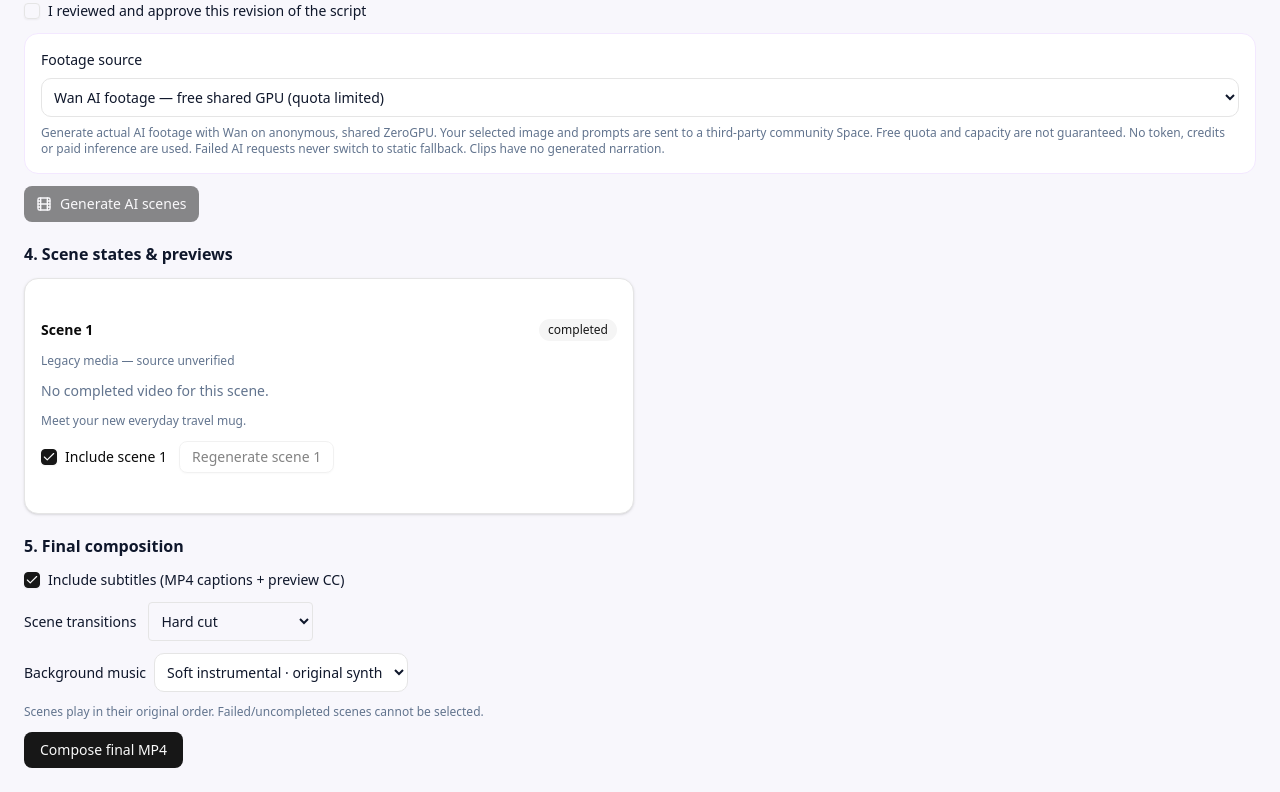
Test: composition confirmation stays next to its action and cancellation restores focus without starting a job
(page scrolled)
Click the button "Compose final MP4". click: coordinates (104, 750)
box: [24,732,183,768]
(page scrolled)
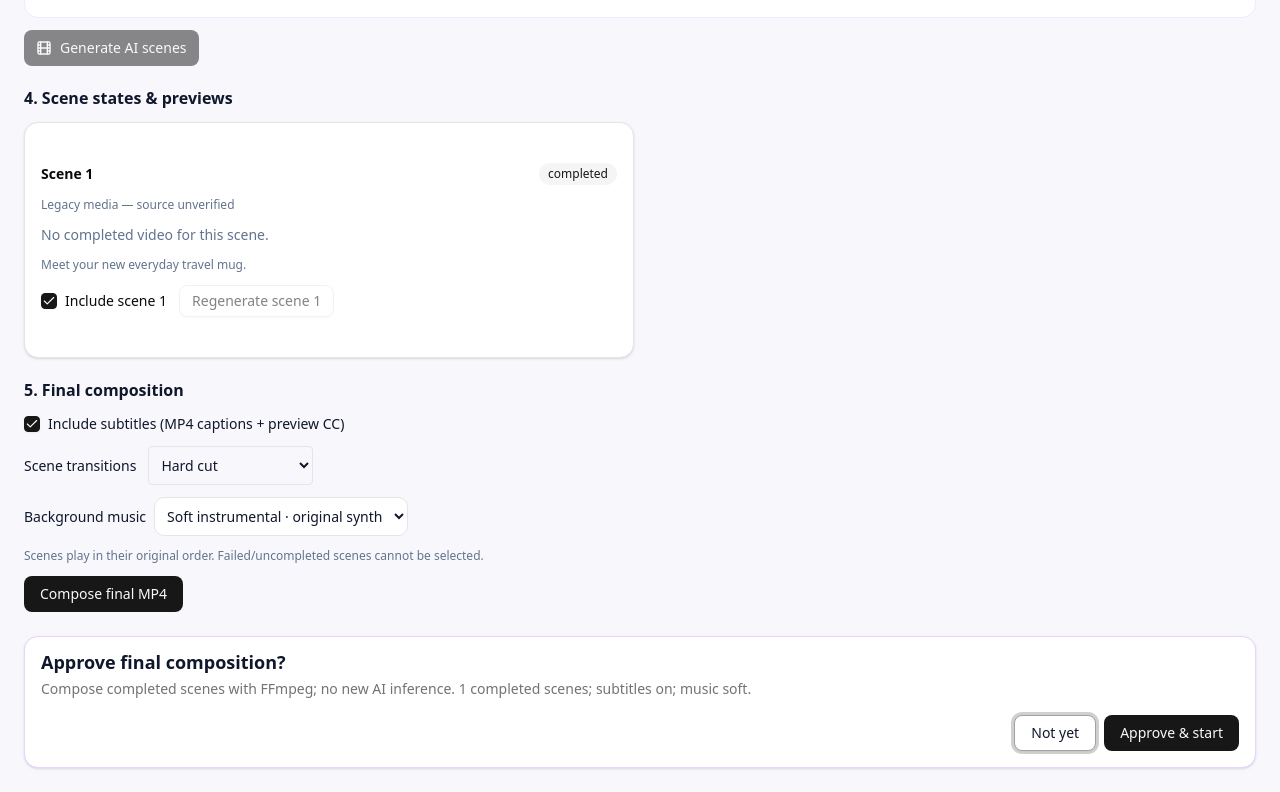
Check: the text "1 completed scenes; subtitles on; music soft" is shown, box [459,679,751,698]
Click the button "Not yet". click: coordinates (1055, 733)
box: [1014,715,1096,751]
(page scrolled)
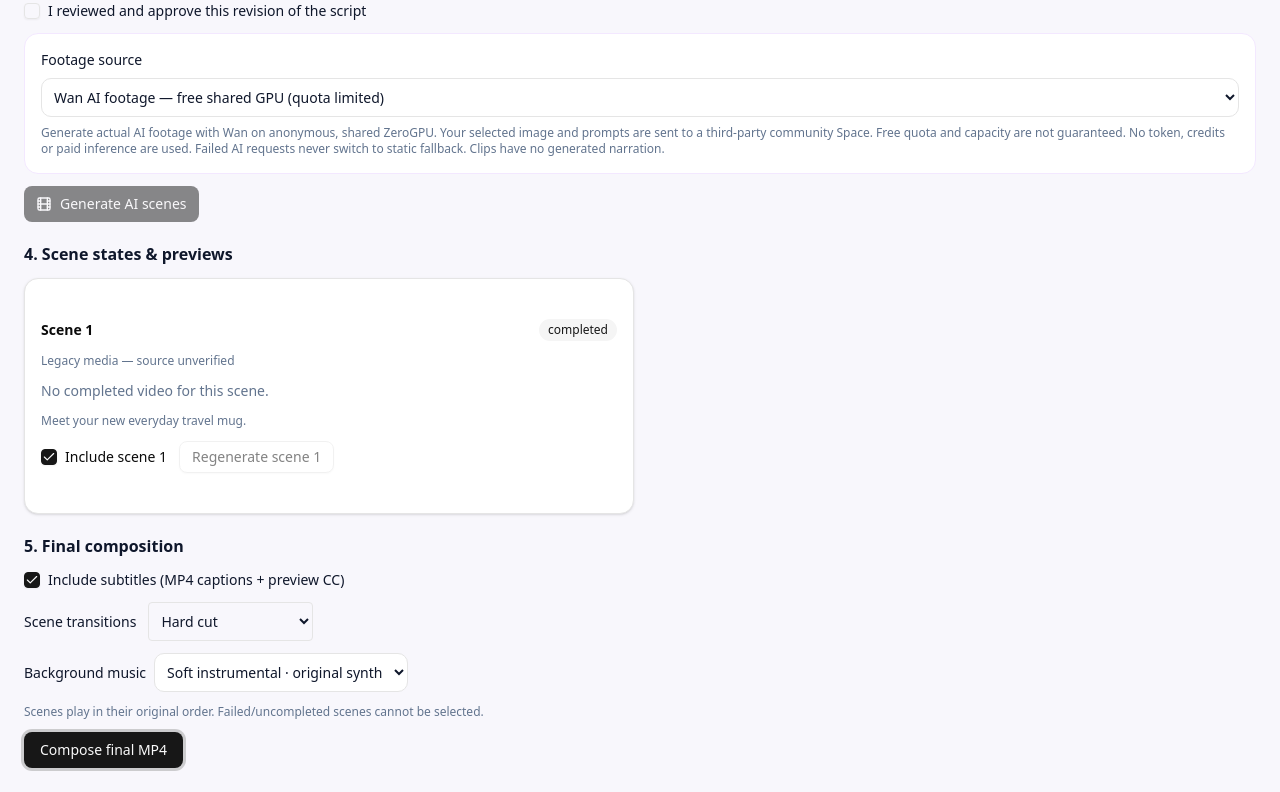
Check: the dialog is gone
Click the button "Compose final MP4". click: coordinates (104, 750)
box: [24,732,183,768]
(page scrolled)
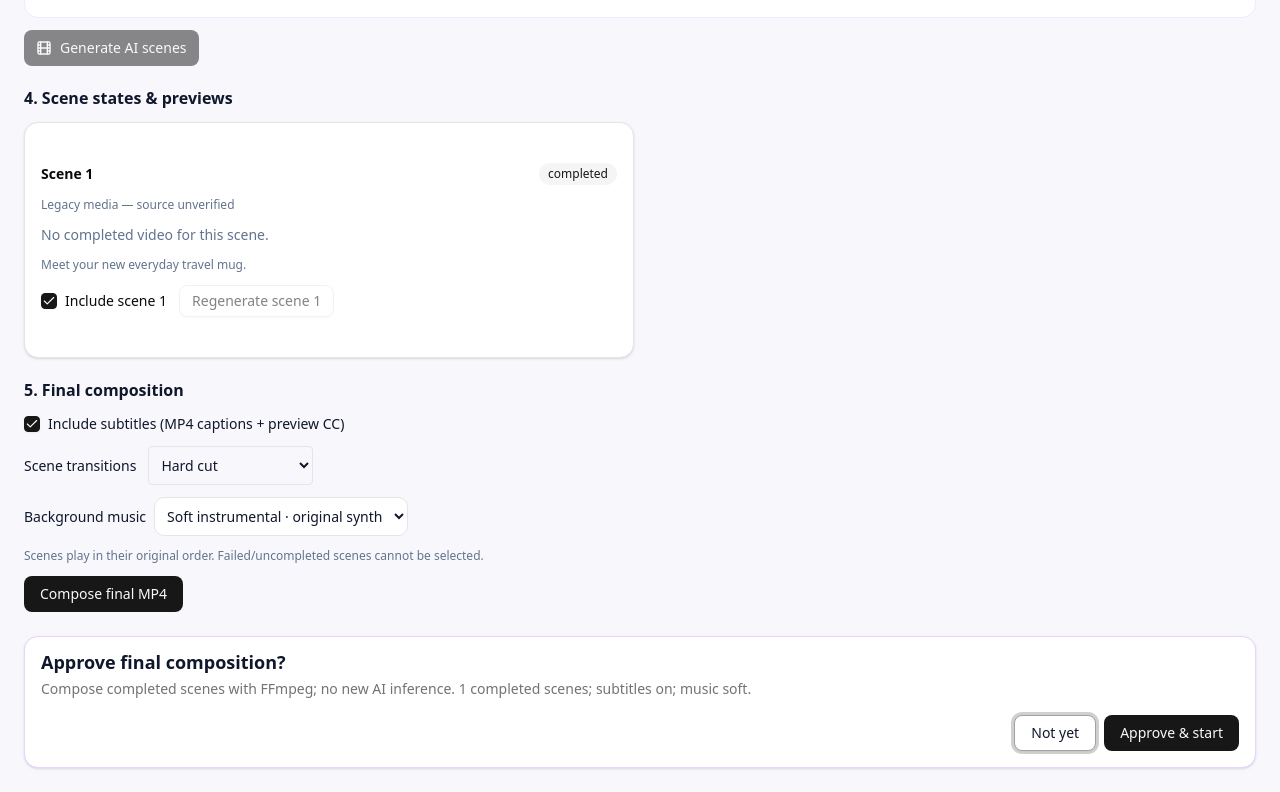
Press Escape in the dialog, box [24,636,1256,768]
(page scrolled)
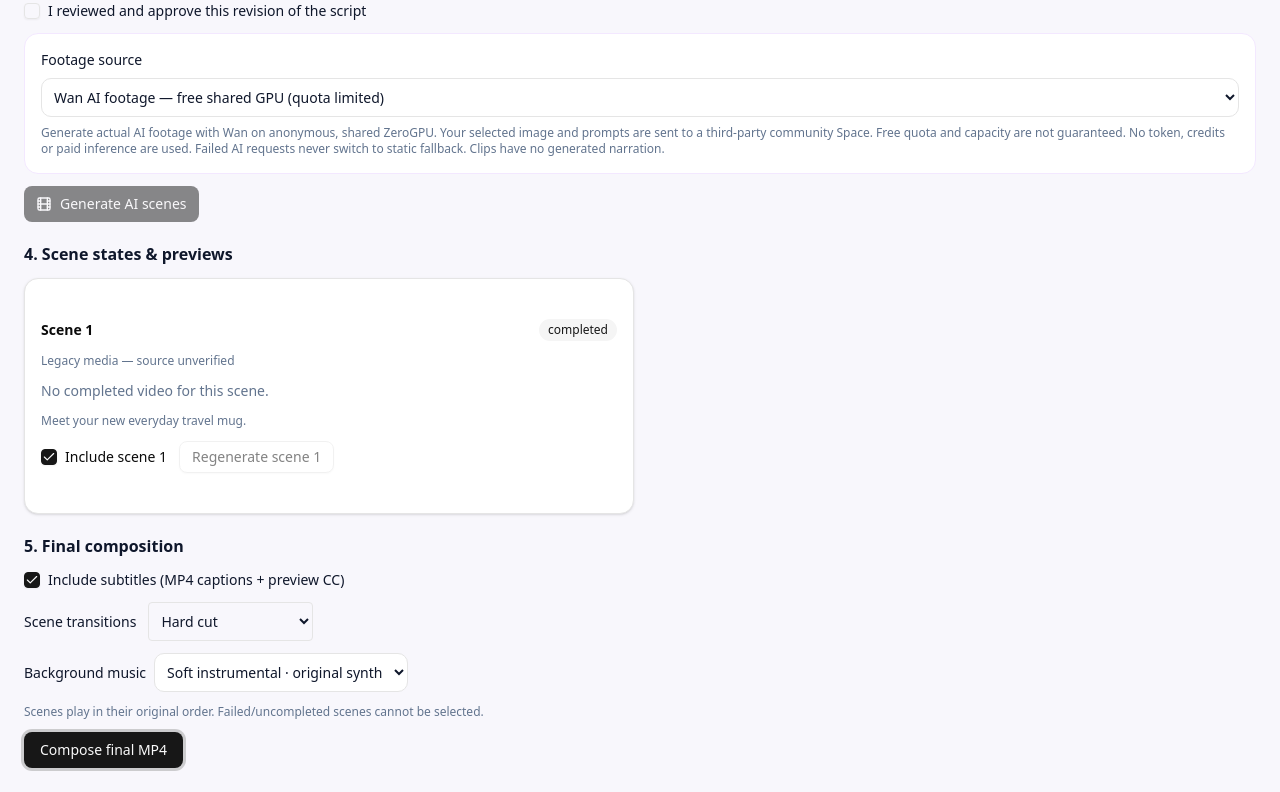
Check: the dialog is gone
